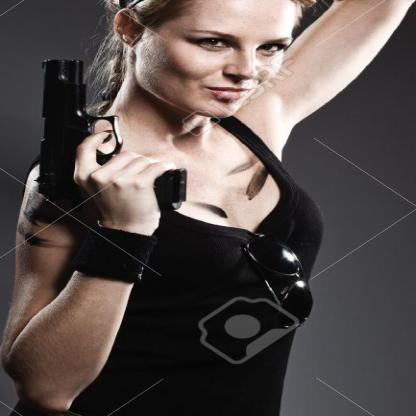gun: (0, 47, 197, 237)
